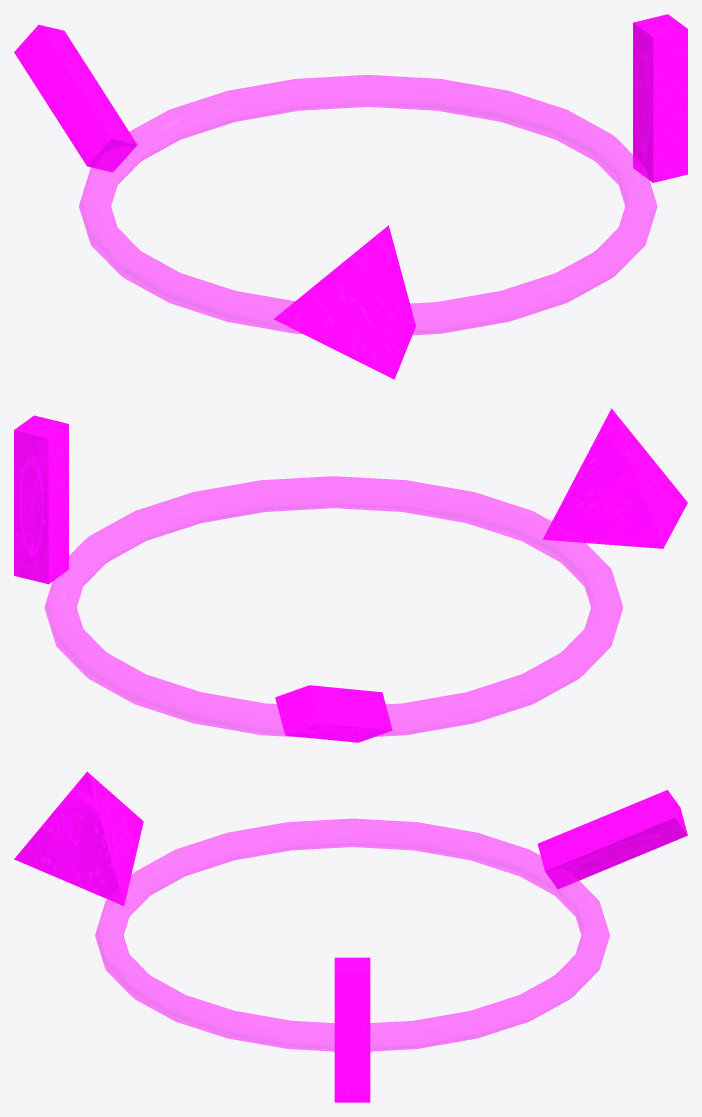
Rendered from story-marker-magenta.high.glb.
3 views of the same model, one above another, from view 1: azimuth 30°, elevation 25°; view 2: azimuth 150°, elevation 25°; view 3: azimuth 270°, elevation 25° (orthographic). The views are drawn at different scales.
Parts seen in each view (by area): view 1: story-marker-magenta-transparent|#ff00ff|#ff00ff|0.38|1|0.04, story-marker-magenta-body; view 2: story-marker-magenta-transparent|#ff00ff|#ff00ff|0.38|1|0.04, story-marker-magenta-body; view 3: story-marker-magenta-transparent|#ff00ff|#ff00ff|0.38|1|0.04, story-marker-magenta-body.
Boxes of the visible parts, x1=… form: story-marker-magenta-transparent|#ff00ff|#ff00ff|0.38|1|0.04: x1=79, y1=75, x2=657, y2=335; story-marker-magenta-body: x1=14, y1=14, x2=687, y2=379; story-marker-magenta-transparent|#ff00ff|#ff00ff|0.38|1|0.04: x1=44, y1=476, x2=623, y2=737; story-marker-magenta-body: x1=14, y1=408, x2=687, y2=742; story-marker-magenta-transparent|#ff00ff|#ff00ff|0.38|1|0.04: x1=95, y1=818, x2=609, y2=1051; story-marker-magenta-body: x1=14, y1=771, x2=687, y2=1102.
Size of the model in its own units: 0.805 by 0.217 by 0.942.
Materials: 2 (2 with a texture image).
